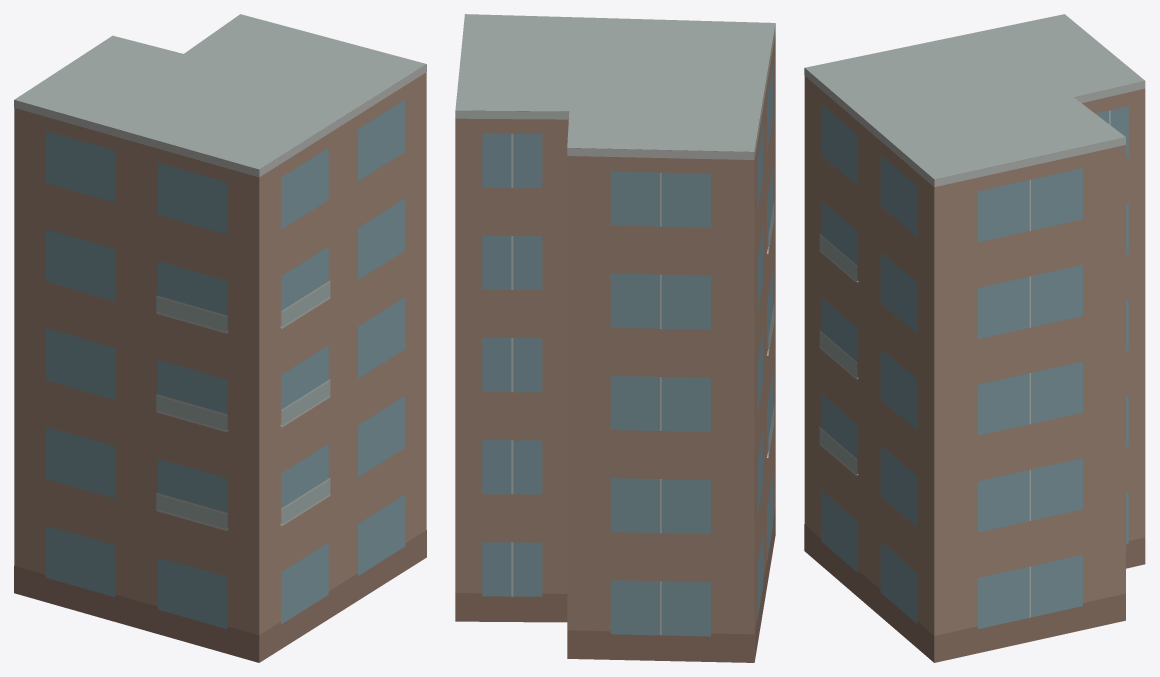
The model's file is survey-upis-32639722.glb.
3 views of the same model, side by side, from view 1: azimuth 30°, elevation 25°; view 2: azimuth 150°, elevation 25°; view 3: azimuth 270°, elevation 25° (orthographic). The views are drawn at different scales.
Parts seen in each view (by area): view 1: survey-upis-32639722.tmp; view 2: survey-upis-32639722.tmp; view 3: survey-upis-32639722.tmp.
Part boxes in pixels (<box>): survey-upis-32639722.tmp: <box>14,14,426,662</box>; survey-upis-32639722.tmp: <box>455,14,775,662</box>; survey-upis-32639722.tmp: <box>804,14,1145,662</box>.
Size of the model in its own units: 11.21 by 15.25 by 9.75.
